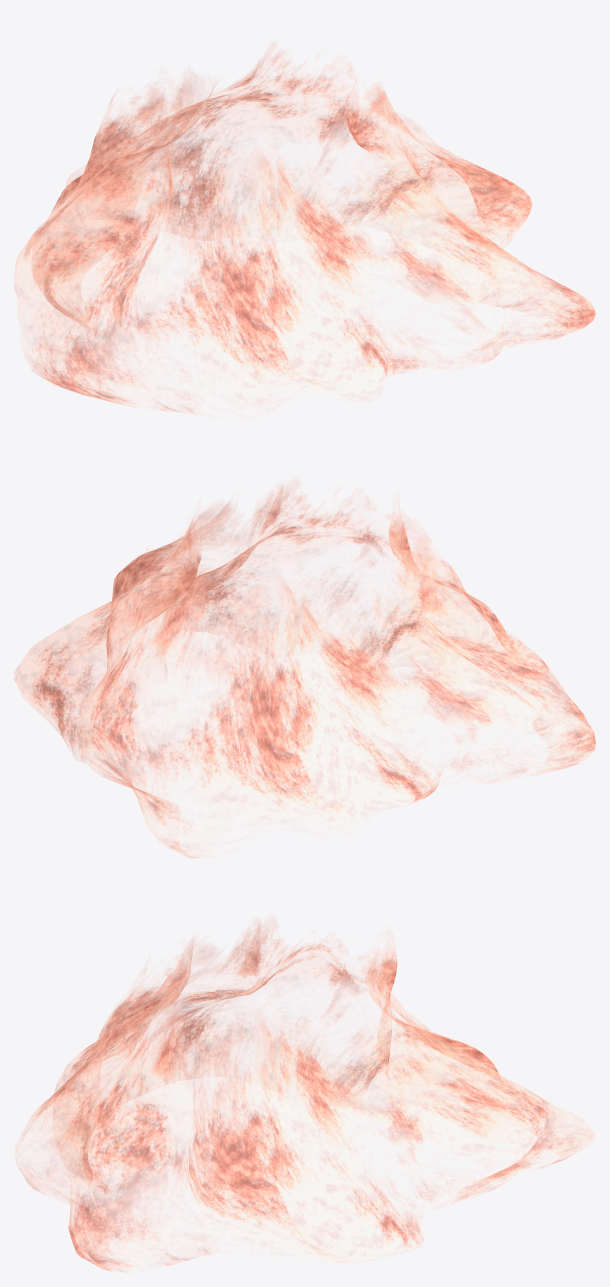
File: devil_skirt_a.glb
The picture shows the model from 3 angles, top to bottom: view 1: azimuth 30°, elevation 25°; view 2: azimuth 150°, elevation 25°; view 3: azimuth 270°, elevation 25°; orthographic projection. The views are drawn at different scales.
Visible parts, largest first — view 1: devil_skirt_a; view 2: devil_skirt_a; view 3: devil_skirt_a.
Part boxes in pixels (x1=…): devil_skirt_a: x1=14, y1=43, x2=595, y2=415; devil_skirt_a: x1=14, y1=479, x2=595, y2=858; devil_skirt_a: x1=14, y1=917, x2=595, y2=1272.
Bounding box in the file's own units: 17.93 × 8 × 18.22.
1 material, 1 textured.
